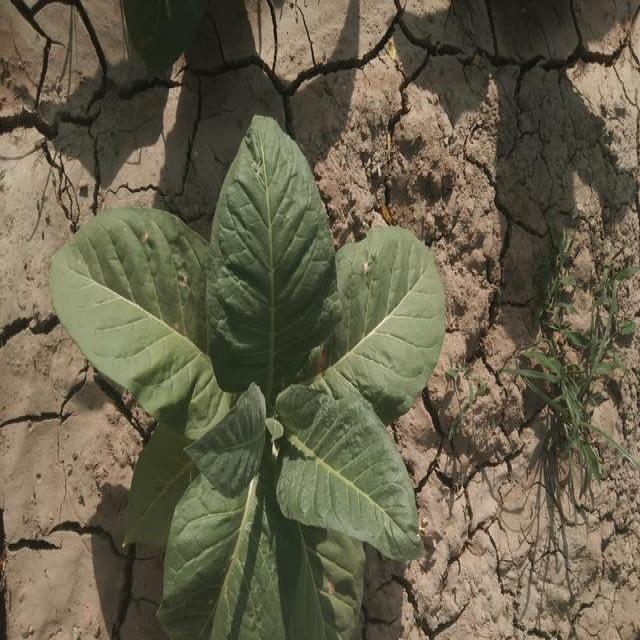crop: (51, 110, 456, 633)
